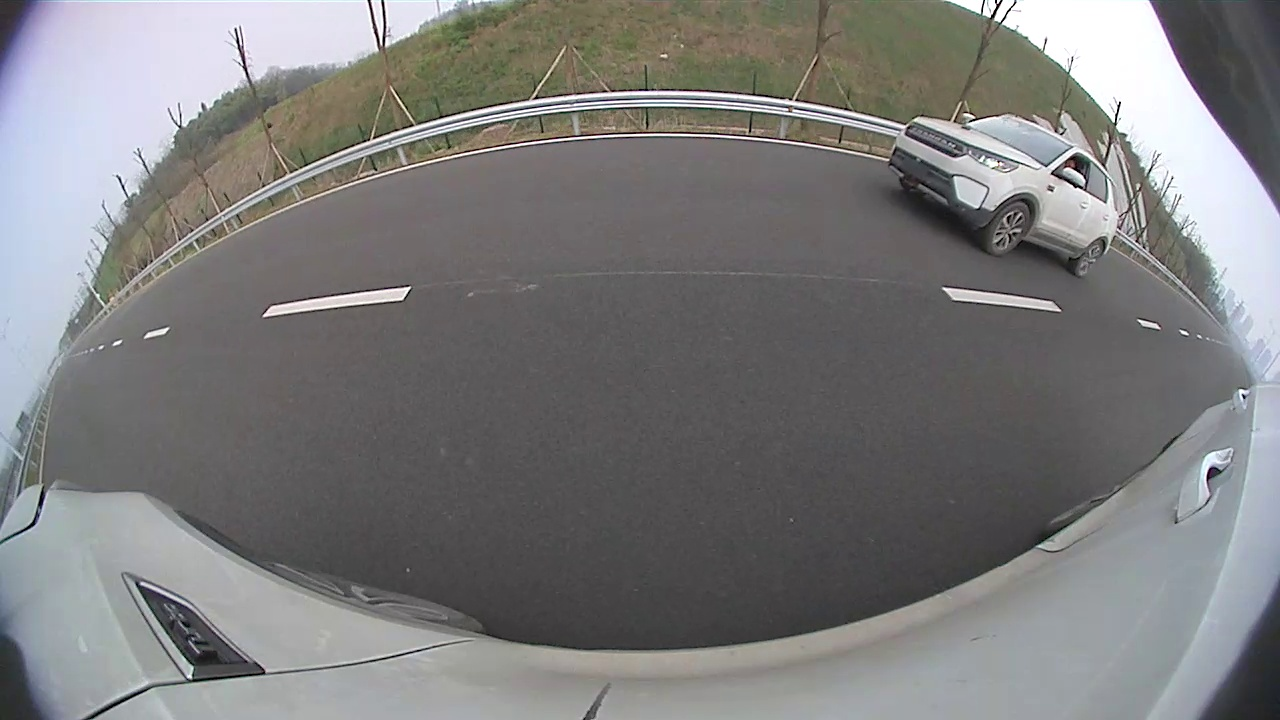car: (888, 116, 1120, 278)
front: (989, 202, 1032, 257)
rear: (1076, 239, 1104, 277)
